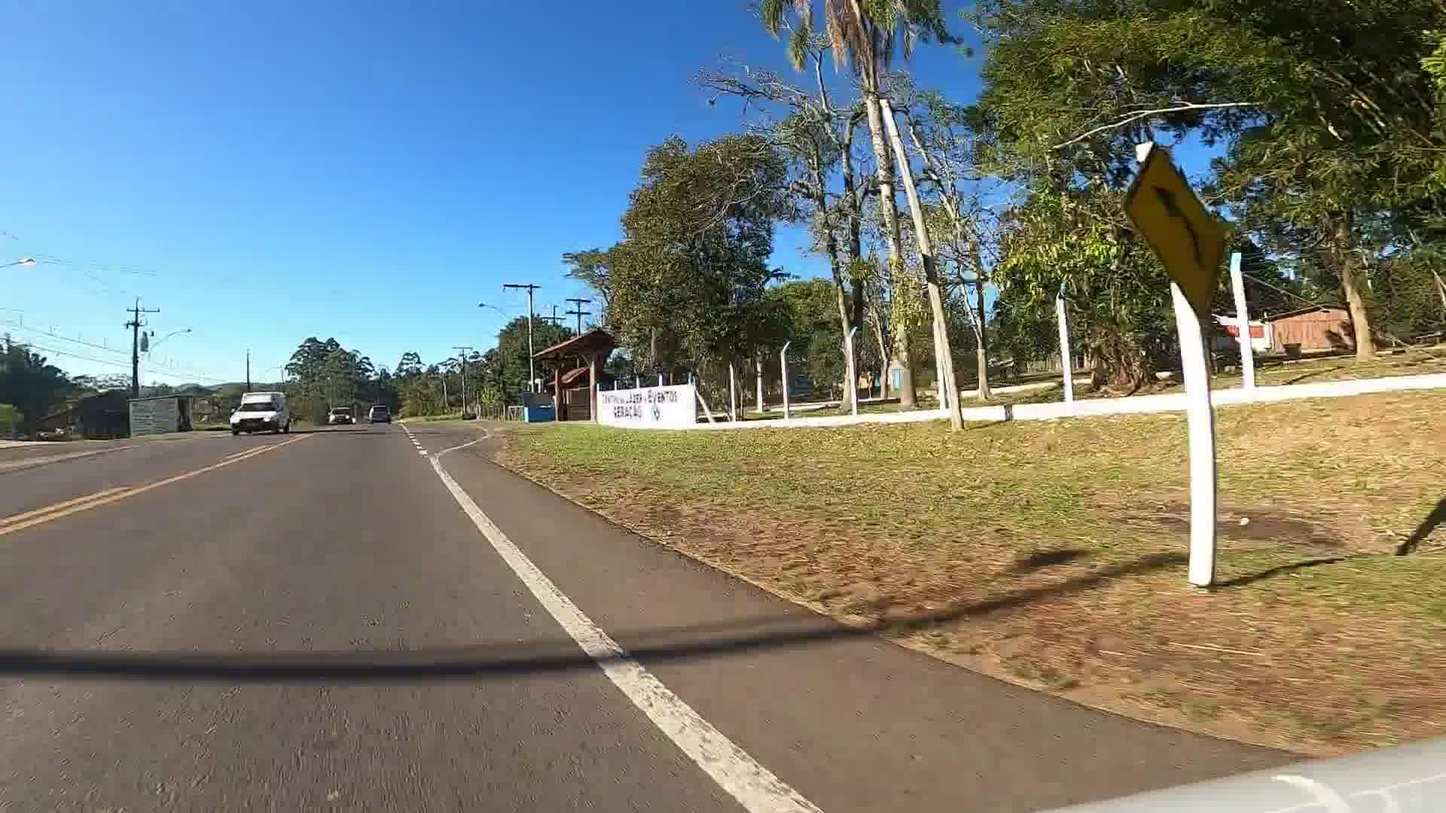A-2a: (1124, 150, 1237, 315)
